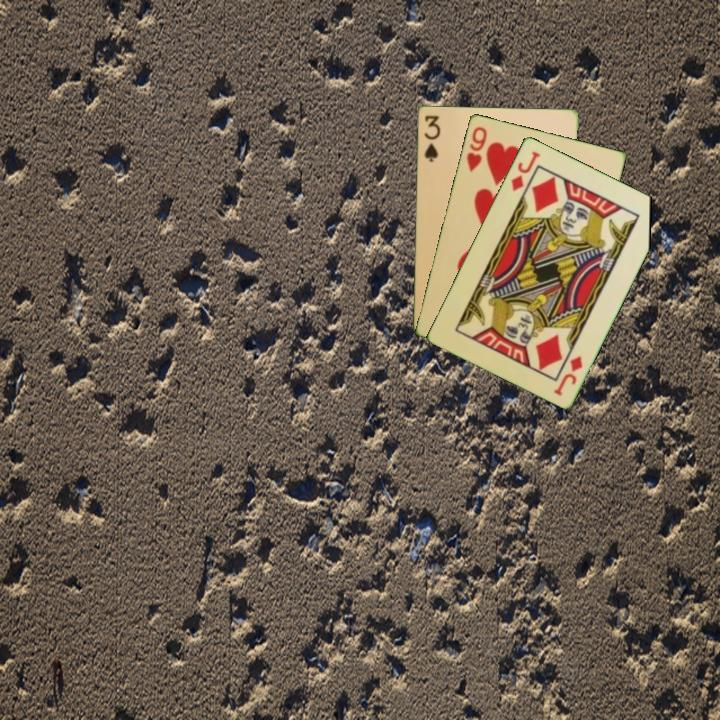3s: (420, 112, 443, 165)
9h: (463, 122, 490, 174)
Jd: (507, 147, 543, 194), (550, 352, 585, 398)
